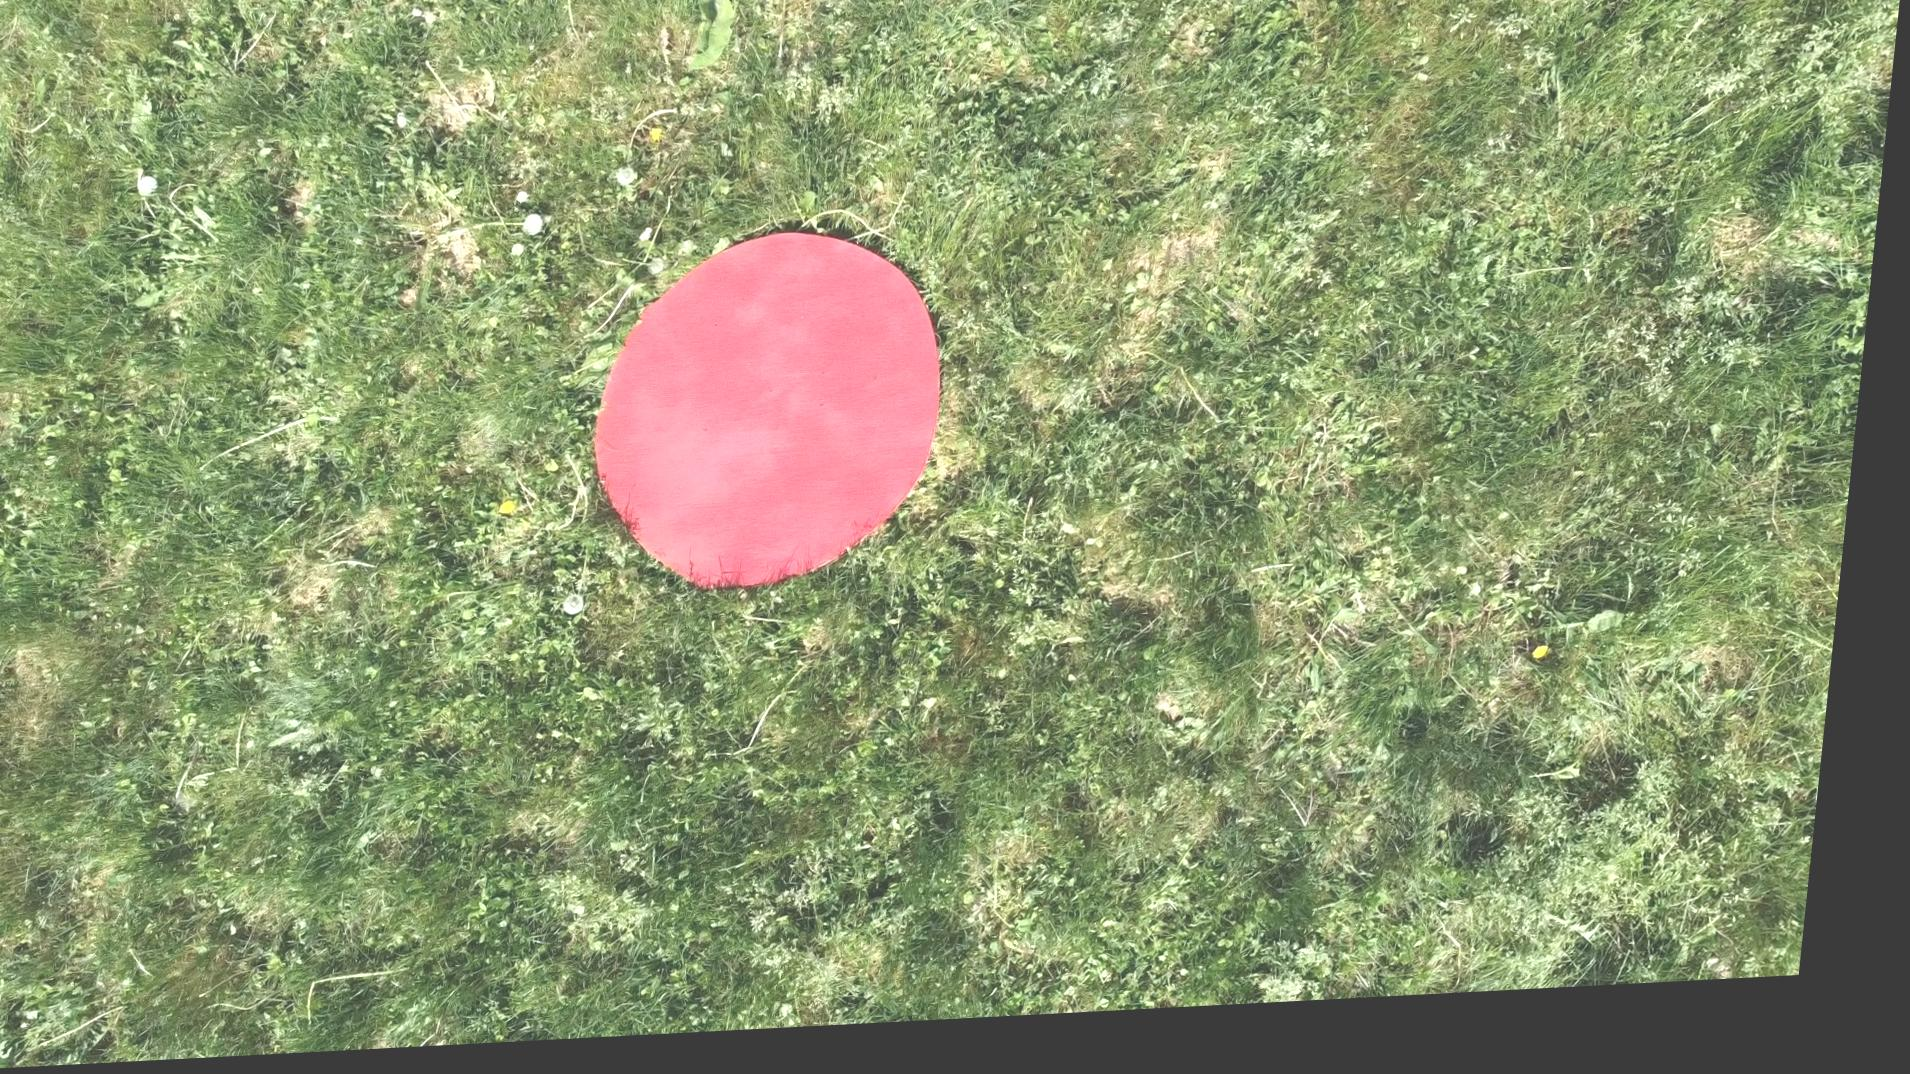Red: (569, 212, 975, 615)
